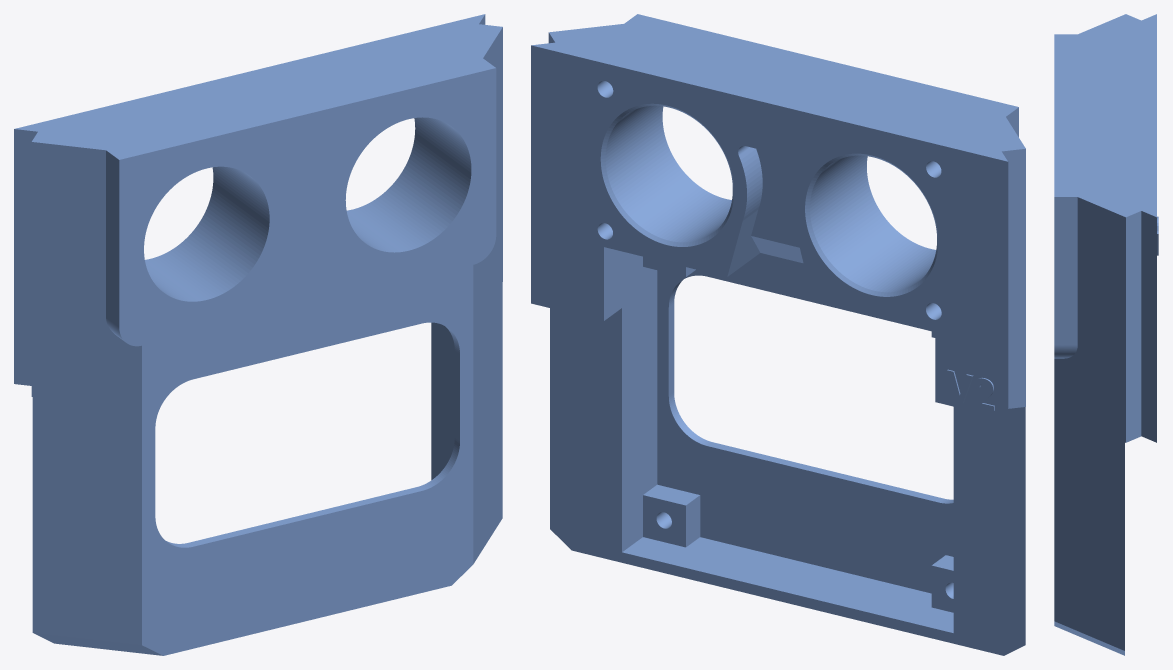
File: FaceUSOLED.glb
3 renders of one model, left to right at view 1: azimuth 30°, elevation 25°; view 2: azimuth 150°, elevation 25°; view 3: azimuth 270°, elevation 25°, orthographic. The views are drawn at different scales.
Visible parts, largest first — view 1: Node1; view 2: Node1; view 3: Node1.
Boxes of the visible parts, left/top/right/bottom form: Node1: left=14, top=14, right=502, bottom=655; Node1: left=531, top=14, right=1025, bottom=655; Node1: left=1054, top=14, right=1158, bottom=655.
Bounding box in the file's own units: 61.9 × 63.6 × 13.4.
